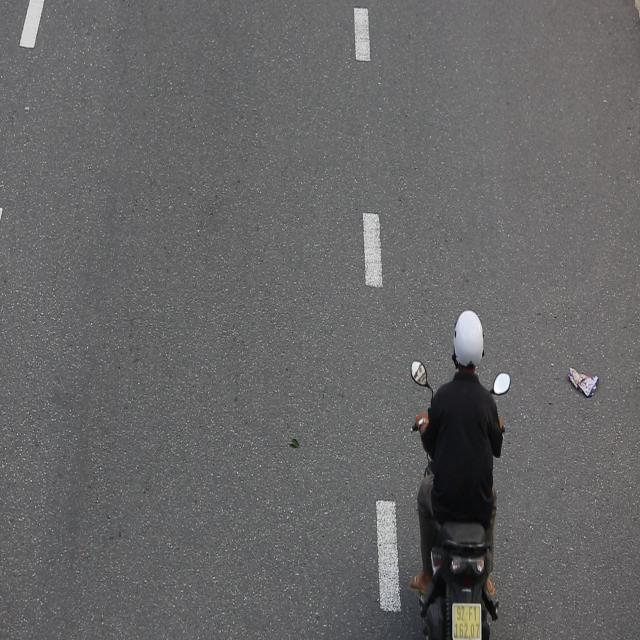motorbike: (406, 307, 523, 640)
